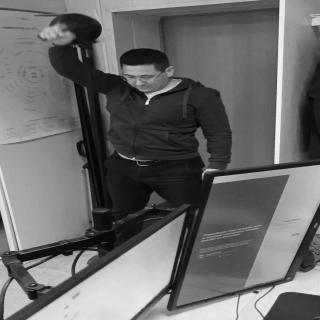kettlebell: (37, 12, 106, 48)
